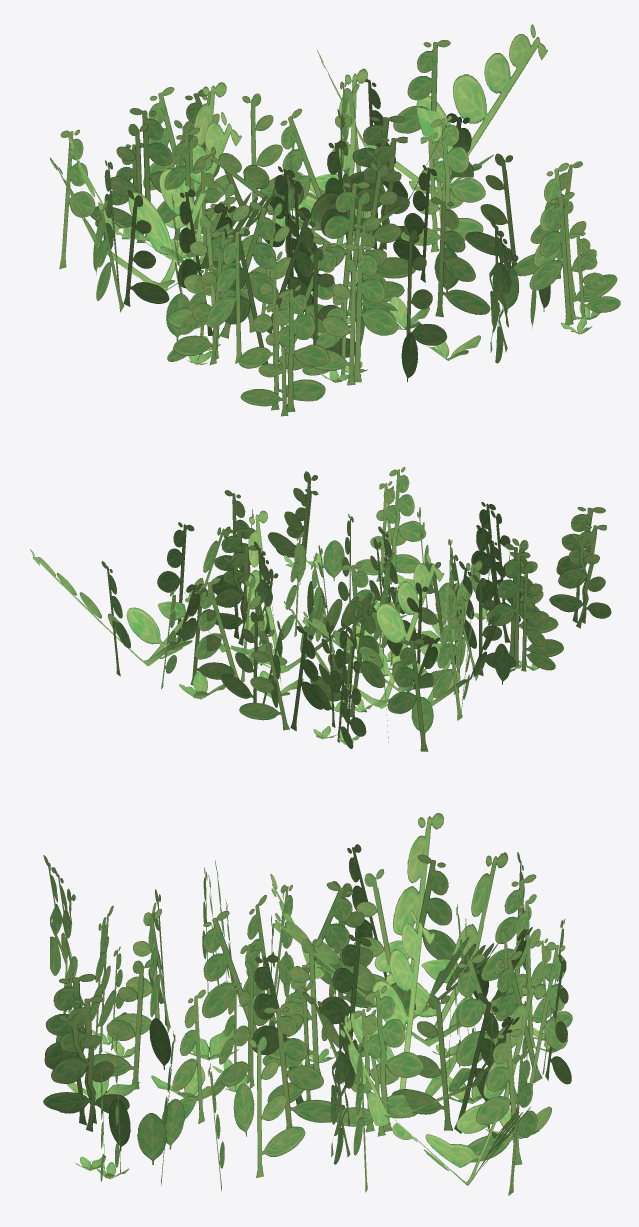
Rendered from LeafSetE_13.fbx.
The picture shows the model from 3 angles, top to bottom: view 1: azimuth 30°, elevation 25°; view 2: azimuth 150°, elevation 25°; view 3: azimuth 270°, elevation 25°; orthographic projection. The views are drawn at different scales.
Visible parts, largest first — view 1: LeafSetE_13; view 2: LeafSetE_13; view 3: LeafSetE_13.
Boxes of the visible parts, x1,y1,x2,y2 form: LeafSetE_13: [50, 24, 620, 416]; LeafSetE_13: [30, 467, 611, 751]; LeafSetE_13: [43, 813, 572, 1195].
Bounding box in the file's own units: 2.96 × 0.9121 × 2.54.
